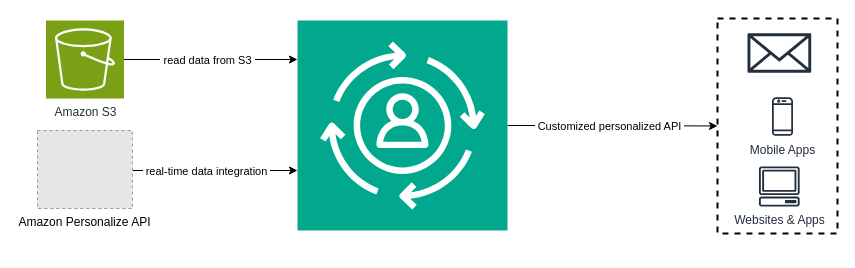
Some shapes in this 855 by 268 pixel diagram are drawn without their labels. Grey dashed boxes stand in for pictures. The centre of each missing label's shape, as x and y in pixels:
"Amazon Personalize" belongs at (x=402, y=125).
"Emails" belongs at (x=779, y=52).
